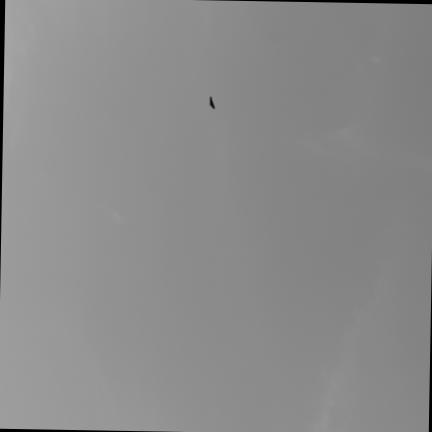Shahed: (208, 96, 214, 108)
